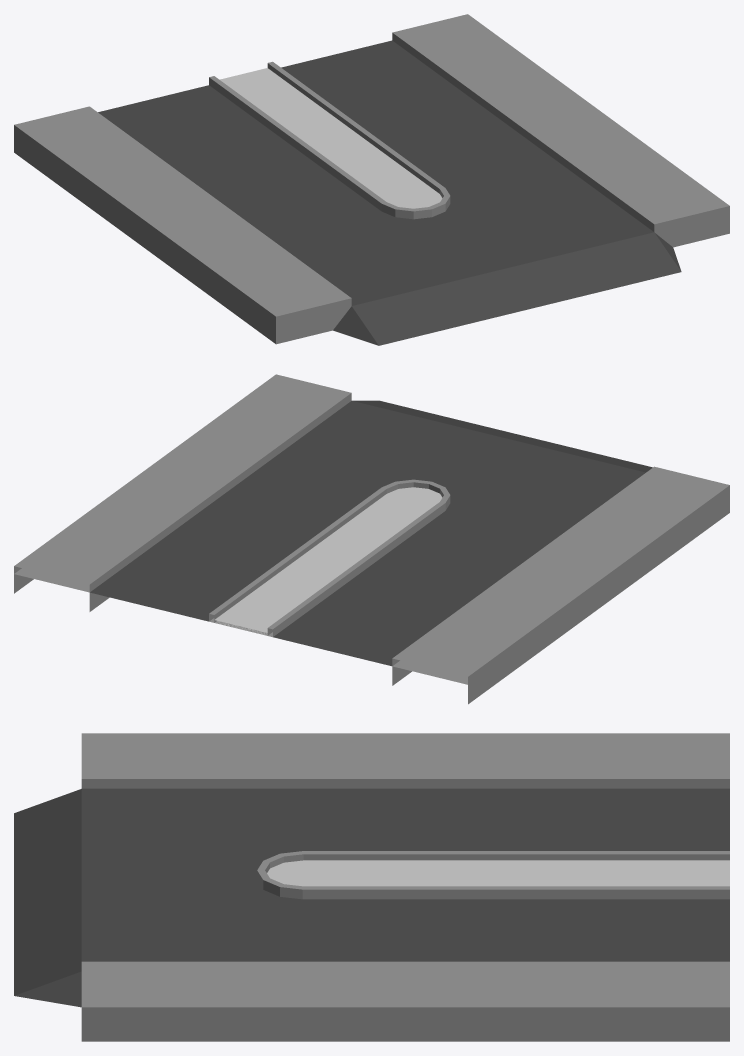
3 views of the same model, one above another, from view 1: azimuth 30°, elevation 25°; view 2: azimuth 150°, elevation 25°; view 3: azimuth 270°, elevation 25° (orthographic). The views are drawn at different scales.
Visible parts, largest first — view 1: Model_0, Skybox, Grass; view 2: Model_0, Skybox, Grass; view 3: Model_0, Grass, Skybox.
Part boxes in pixels (x1,y1,x2,y2): Model_0: [14, 14, 729, 345]; Skybox: [98, 86, 645, 343]; Grass: [220, 68, 442, 208]; Model_0: [14, 374, 729, 704]; Skybox: [14, 412, 649, 684]; Grass: [215, 487, 442, 632]; Model_0: [14, 733, 729, 1041]; Grass: [267, 860, 729, 886]; Skybox: [32, 789, 729, 964].
Size of what is drawn, in the model's own units: 2400 by 140 by 2650.
